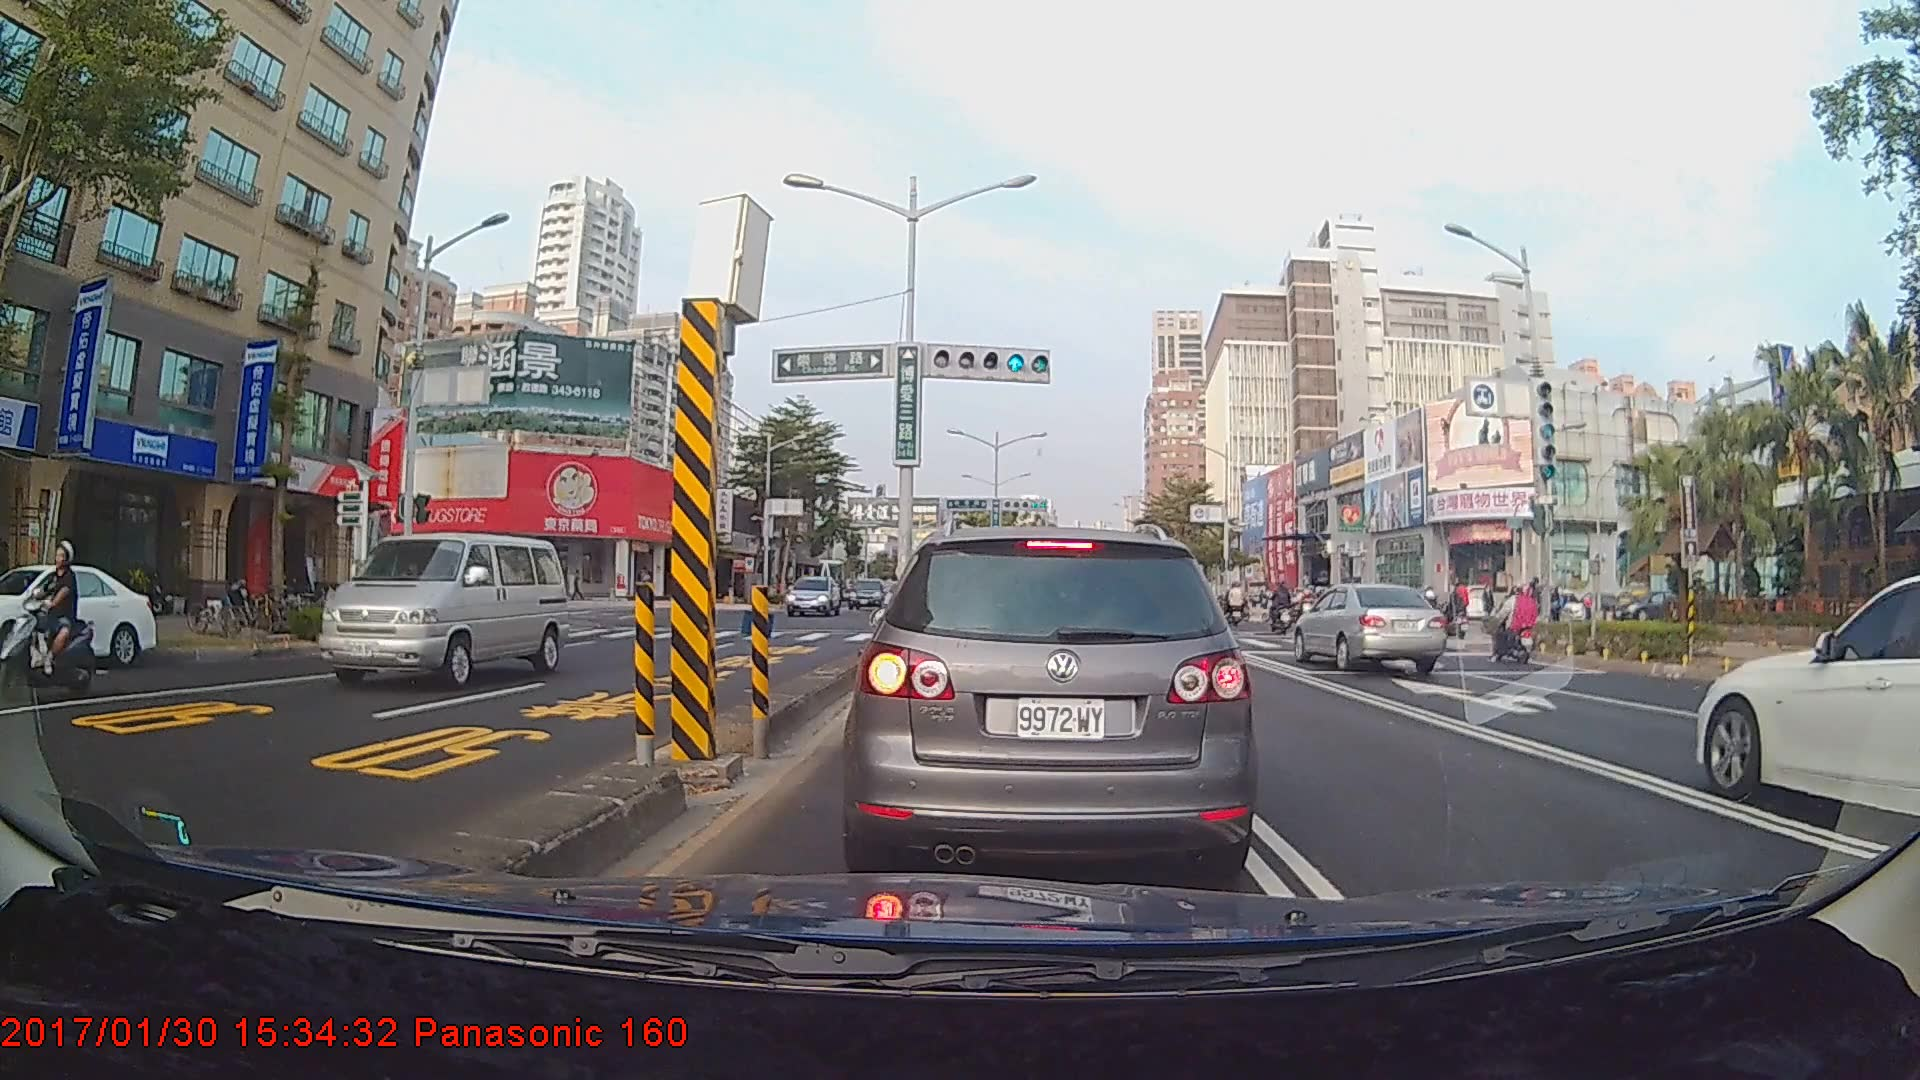rider: (1, 539, 102, 701), (1485, 582, 1548, 668)
vehicle: (855, 524, 1246, 880), (1698, 570, 1920, 829), (314, 531, 570, 689), (0, 561, 157, 671), (1289, 580, 1445, 672), (783, 572, 841, 615)
